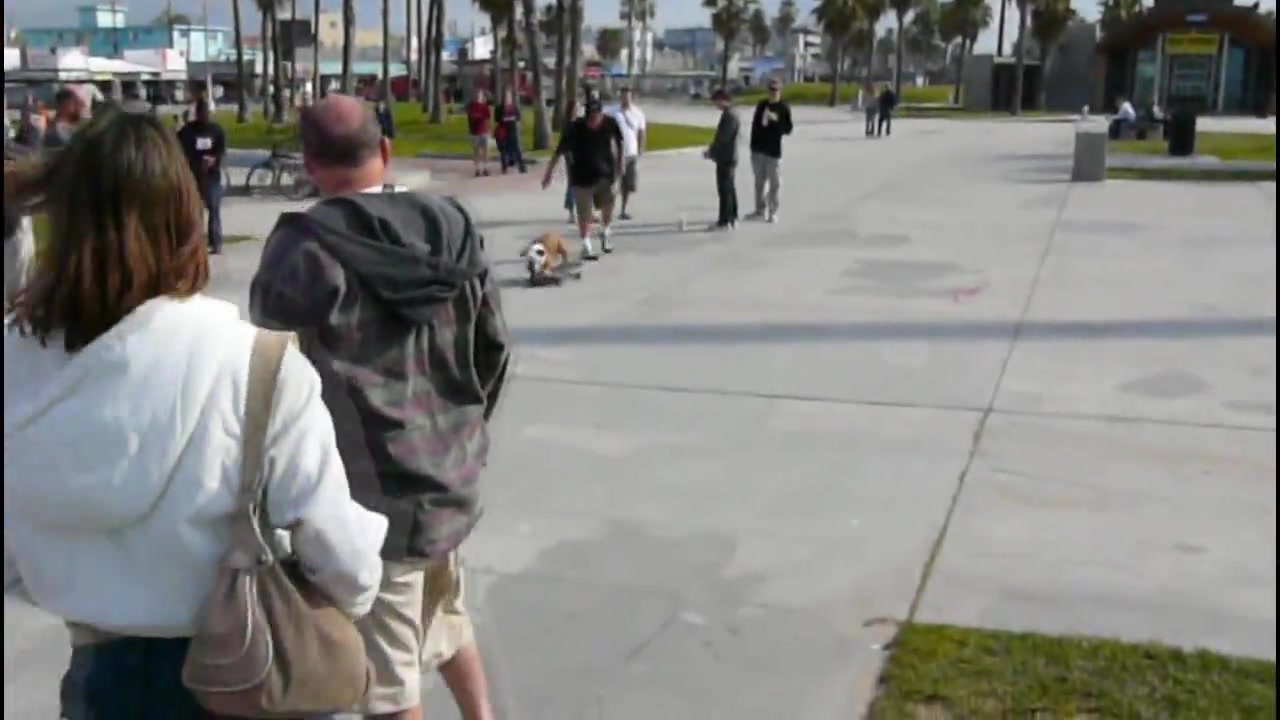dog: (518, 228, 570, 286)
